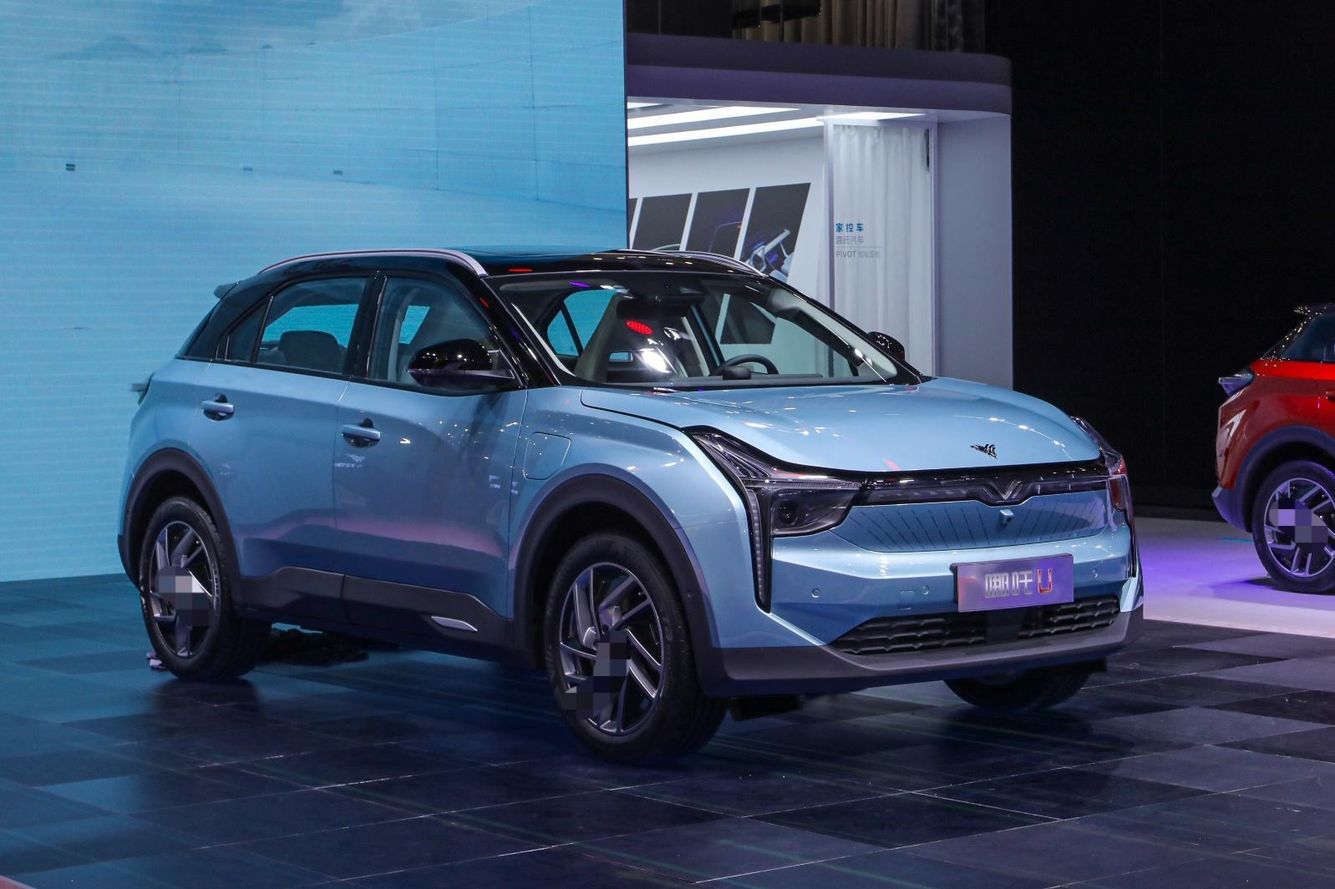NETA: (968, 442, 1000, 462)
